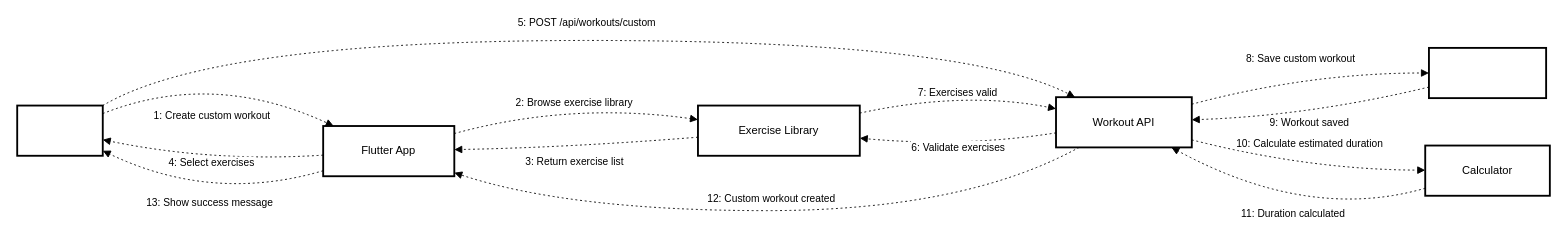
Some shapes in this 1566 by 235 pixel diagram are drawn without their labels. The box of each missing label's shape, as (x1, y1, x2, y2) in pixels:
Database: (1428, 46, 1547, 99)
User: (16, 104, 103, 156)
